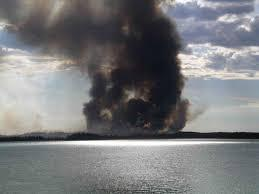yanwu: (0, 0, 188, 133)
